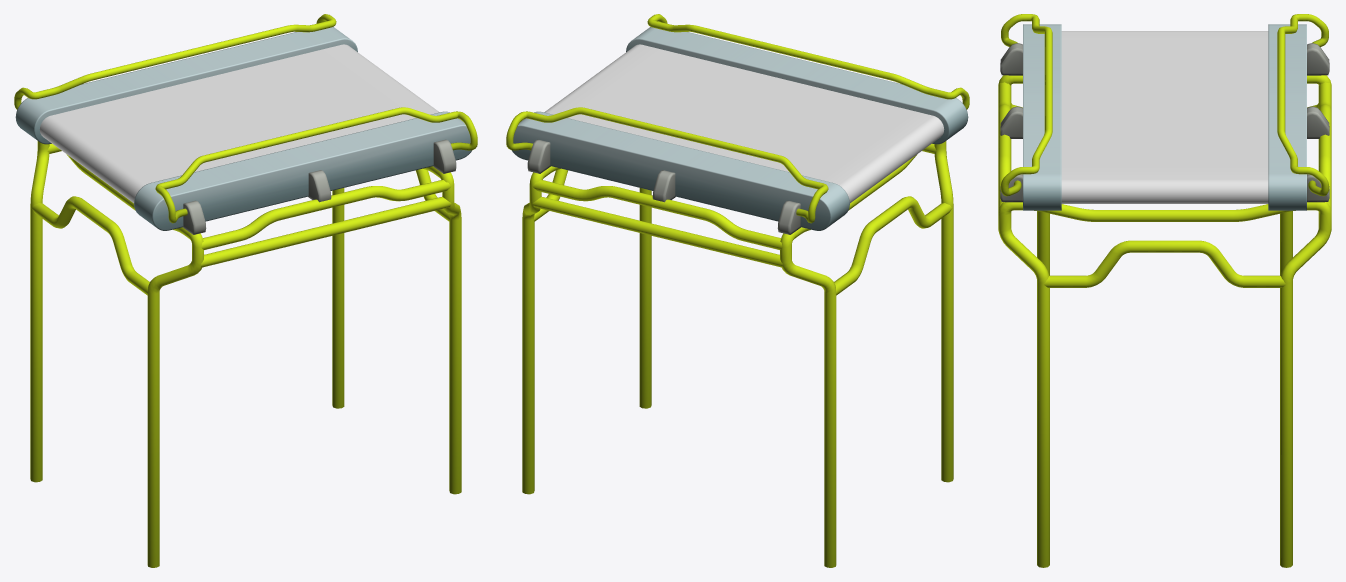
The model's file is SM_conveyor_2x3.fbx.
3 renders of one model, left to right at view 1: azimuth 30°, elevation 25°; view 2: azimuth 150°, elevation 25°; view 3: azimuth 270°, elevation 25°, orthographic. The views are drawn at different scales.
Parts seen in each view (by area): view 1: belt.001, Pipe Curve.004, SM_conveyor_2x3, Pipe Curve.001, Circle.001; view 2: belt.001, Pipe Curve.004, SM_conveyor_2x3, Pipe Curve.001, Circle.001; view 3: belt.001, Pipe Curve.004, SM_conveyor_2x3, Pipe Curve.001, Circle.001.
Part boxes in pixels (bbox=[...]): belt.001: bbox=[39, 44, 439, 203]; Pipe Curve.004: bbox=[30, 141, 461, 567]; SM_conveyor_2x3: bbox=[15, 27, 471, 230]; Pipe Curve.001: bbox=[14, 14, 477, 223]; Circle.001: bbox=[183, 139, 456, 234]; belt.001: bbox=[544, 44, 944, 203]; Pipe Curve.004: bbox=[522, 141, 953, 567]; SM_conveyor_2x3: bbox=[512, 27, 968, 230]; Pipe Curve.001: bbox=[506, 14, 969, 223]; Circle.001: bbox=[527, 139, 800, 234]; belt.001: bbox=[1061, 31, 1268, 203]; Pipe Curve.004: bbox=[998, 75, 1331, 567]; SM_conveyor_2x3: bbox=[1023, 24, 1306, 210]; Pipe Curve.001: bbox=[1001, 14, 1328, 196]; Circle.001: bbox=[1000, 43, 1329, 202].
Size of the model in its own units: 300 by 350 by 258.
